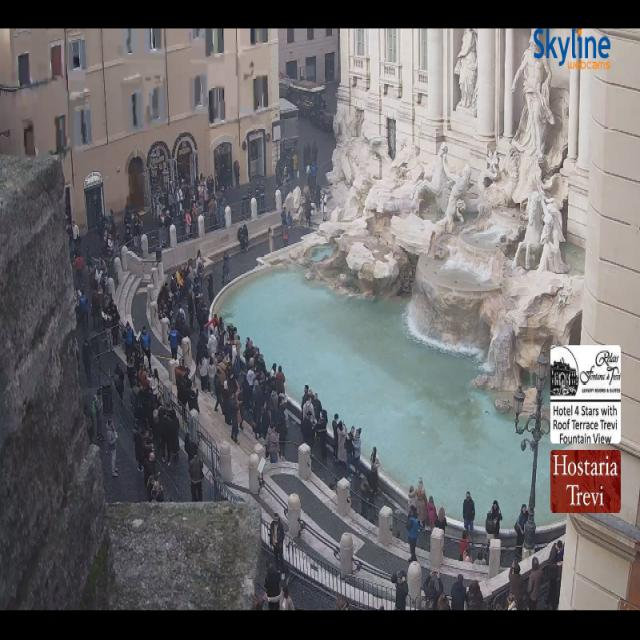person: (164, 269, 203, 337), (90, 271, 120, 350), (209, 319, 239, 384), (215, 317, 242, 382), (87, 249, 107, 328), (215, 317, 239, 382), (225, 326, 253, 380), (234, 335, 263, 386), (175, 266, 195, 337), (128, 355, 148, 425), (213, 317, 240, 368), (166, 269, 187, 334), (216, 324, 233, 403), (128, 351, 148, 412), (218, 319, 237, 378), (172, 272, 189, 337), (547, 541, 563, 610), (132, 387, 156, 433), (214, 317, 231, 381), (90, 277, 109, 332), (266, 365, 283, 422), (244, 338, 266, 382), (175, 179, 198, 221), (152, 408, 170, 461), (87, 244, 107, 290), (159, 275, 179, 321), (176, 365, 192, 420), (90, 255, 107, 306), (176, 366, 192, 420), (85, 247, 105, 290), (509, 560, 526, 610), (132, 334, 147, 390), (196, 293, 208, 360), (99, 215, 118, 257), (528, 558, 543, 610), (264, 585, 295, 610), (270, 513, 283, 572), (252, 377, 264, 439), (170, 180, 189, 218), (424, 572, 443, 610), (106, 419, 118, 477), (515, 505, 528, 558), (100, 215, 116, 258), (92, 388, 105, 440), (486, 501, 502, 543), (189, 453, 203, 501), (283, 153, 298, 196), (100, 228, 114, 274), (279, 154, 293, 199), (194, 317, 207, 365), (167, 180, 183, 219), (226, 395, 239, 443), (392, 571, 408, 610), (196, 293, 207, 349), (276, 401, 287, 457), (168, 409, 179, 465), (100, 213, 117, 249), (408, 507, 419, 562), (301, 405, 315, 448), (102, 297, 113, 351), (128, 348, 142, 390), (463, 492, 475, 539), (316, 409, 327, 460), (108, 299, 119, 350), (175, 308, 191, 343), (451, 575, 467, 610), (361, 478, 374, 520), (265, 423, 279, 462), (204, 189, 218, 228), (97, 214, 110, 256), (264, 563, 280, 597), (158, 284, 173, 320), (416, 478, 427, 526), (368, 448, 379, 496), (200, 315, 217, 346), (345, 427, 355, 479), (244, 338, 255, 385), (175, 302, 189, 338), (140, 326, 151, 371), (260, 397, 272, 438), (302, 391, 316, 426), (181, 259, 195, 294), (176, 293, 187, 337), (204, 169, 219, 200), (467, 581, 483, 610), (92, 286, 103, 328), (305, 163, 315, 209), (232, 335, 242, 380), (406, 500, 421, 530), (134, 421, 143, 471), (157, 282, 169, 319), (254, 347, 267, 381), (181, 259, 194, 293), (184, 431, 198, 462), (82, 339, 91, 386), (190, 174, 204, 204), (337, 422, 347, 464), (114, 363, 124, 404), (205, 324, 217, 358), (171, 271, 183, 305), (220, 160, 233, 191), (353, 428, 361, 477), (84, 404, 94, 443), (168, 180, 179, 215), (164, 207, 174, 245), (79, 291, 88, 333), (150, 369, 161, 403), (185, 182, 197, 213), (242, 375, 252, 412), (96, 257, 107, 290), (217, 187, 227, 222), (160, 189, 174, 214), (168, 325, 178, 360), (158, 211, 167, 246), (67, 222, 75, 261), (187, 293, 195, 332), (200, 353, 208, 391), (137, 359, 147, 389), (428, 496, 437, 529), (124, 207, 132, 243), (127, 353, 135, 389), (435, 507, 447, 531), (188, 387, 199, 413), (75, 254, 83, 289), (281, 166, 290, 197), (332, 414, 338, 460), (176, 180, 184, 214), (124, 207, 132, 241), (125, 322, 133, 356), (72, 220, 80, 254), (459, 531, 468, 561), (196, 174, 205, 204), (112, 226, 121, 256), (196, 250, 203, 288), (151, 479, 163, 501), (134, 213, 142, 246), (104, 235, 115, 259), (74, 288, 81, 325), (219, 189, 227, 221), (437, 592, 451, 610), (303, 167, 310, 202), (276, 366, 285, 393), (223, 251, 230, 285), (97, 213, 106, 239), (237, 227, 246, 253), (305, 160, 312, 190), (304, 197, 311, 227), (276, 158, 283, 188), (370, 447, 379, 470), (303, 144, 311, 169), (314, 184, 321, 212), (474, 550, 487, 565), (408, 485, 416, 509), (207, 175, 215, 199), (292, 152, 299, 179), (208, 273, 214, 303), (310, 162, 316, 192), (507, 594, 518, 610), (305, 144, 313, 166), (321, 193, 327, 221), (311, 141, 318, 165), (304, 143, 311, 166), (268, 227, 274, 253), (337, 597, 349, 610), (462, 550, 473, 564), (108, 210, 115, 231), (243, 224, 248, 252), (234, 160, 239, 187), (283, 225, 289, 246), (269, 363, 276, 378), (281, 207, 286, 227), (288, 211, 293, 230), (559, 547, 564, 562), (494, 603, 502, 611), (378, 606, 385, 610)
